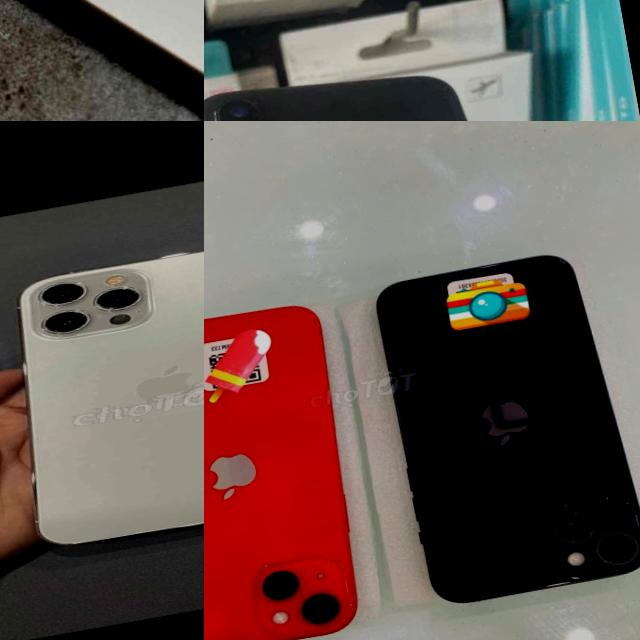gen_12_13: (0, 227, 204, 563)
gen_14: (362, 241, 640, 623), (204, 295, 385, 640)
gen_16: (0, 0, 204, 121)
gen_x_xs: (204, 33, 623, 121)
